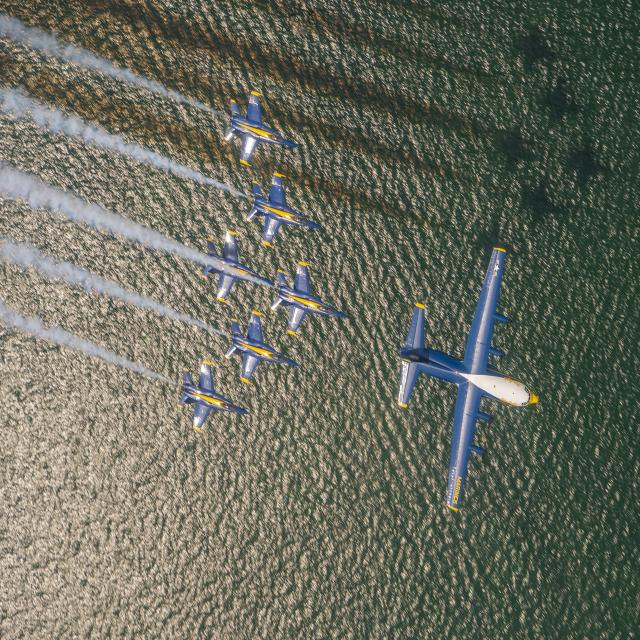MIL_Plane: (398, 247, 538, 511), (270, 260, 348, 338), (246, 172, 322, 248), (224, 90, 298, 167), (225, 310, 299, 385), (201, 230, 274, 304), (178, 360, 249, 433)
